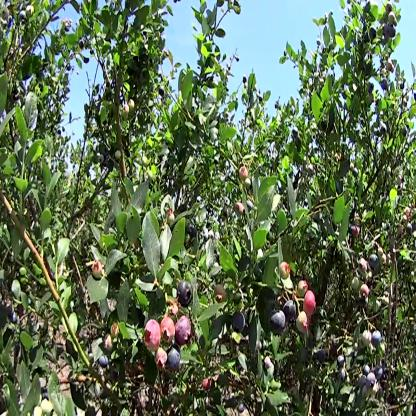intermediate: (143, 318, 162, 356), (159, 317, 177, 347), (304, 290, 318, 320), (296, 311, 310, 336), (277, 260, 291, 282), (356, 256, 369, 279), (155, 351, 167, 373), (238, 164, 251, 182), (361, 284, 372, 299), (203, 377, 213, 391)
mature: (175, 315, 195, 349), (177, 278, 195, 311), (167, 347, 185, 377), (360, 365, 381, 390), (270, 309, 288, 338), (282, 298, 297, 323), (372, 327, 385, 348), (96, 354, 112, 371), (370, 254, 381, 275)
young: (122, 98, 133, 119), (362, 329, 373, 348)
